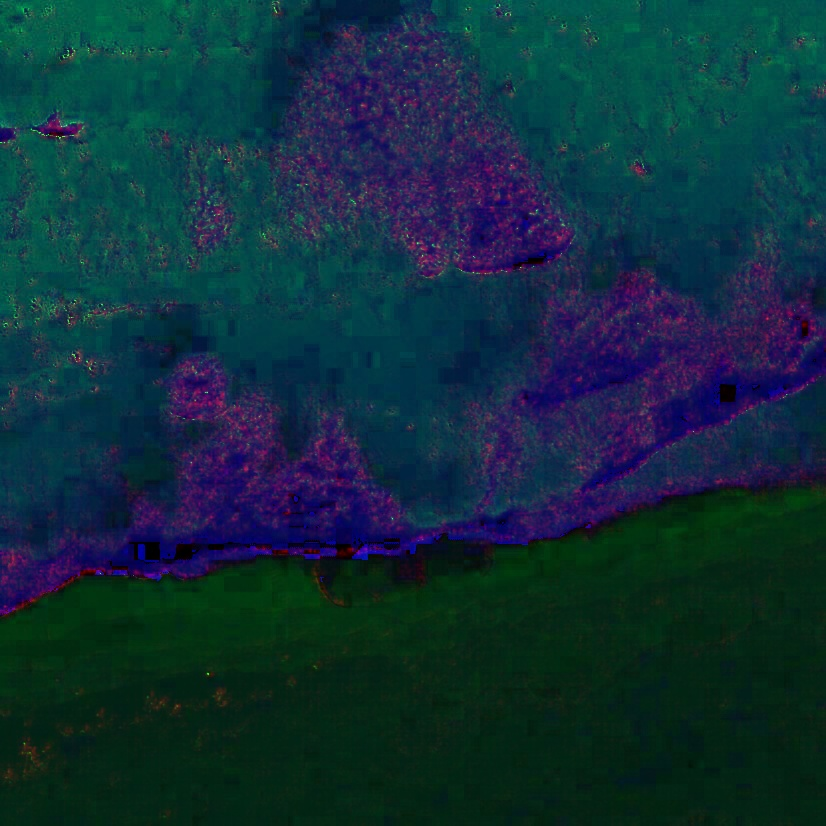rip_current: (201, 224, 545, 504)
